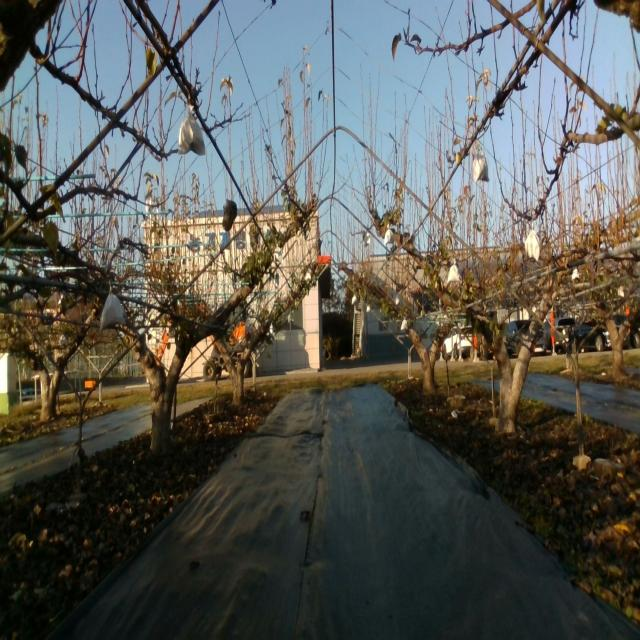pearbags: (176, 105, 206, 156), (100, 287, 127, 331), (472, 141, 490, 183), (524, 230, 540, 262), (446, 259, 462, 284)
